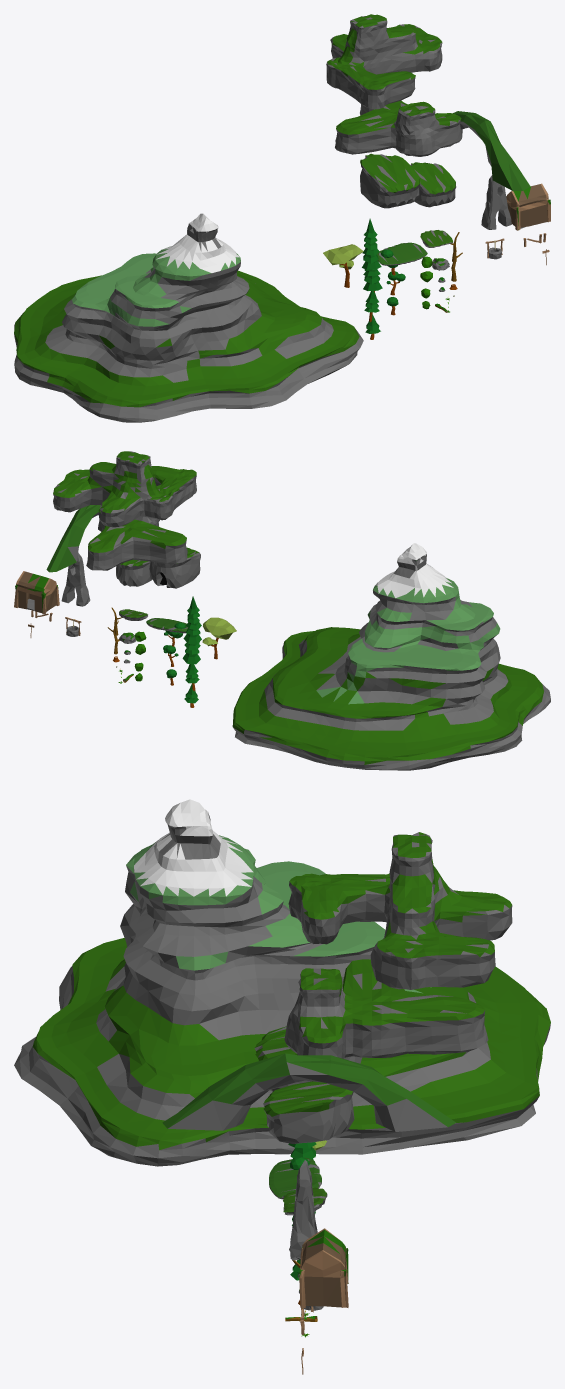
The model's file is Lowpoly Forest Pack v1.0.fbx.
3 renders of one model, top to bottom at view 1: azimuth 30°, elevation 25°; view 2: azimuth 150°, elevation 25°; view 3: azimuth 270°, elevation 25°, orthographic. The views are drawn at different scales.
Parts seen in each view (by area): view 1: Mountain, Summer Cliff 3, Summer Cliff 2, Summer Cave, Summer Arch, Building 1, Summer Cliff 1, Walk Through Rock, Summer Low Cliff 2, Cylinder.048, Summer Pine Tree 4; view 2: Mountain, Summer Cliff 3, Summer Cliff 2, Building 1, Summer Arch, Summer Cave, Walk Through Rock, Summer Cliff 1, Cylinder.048, Summer Pine Tree 4, Summer Low Cliff 2; view 3: Mountain, Summer Cliff 3, Summer Cliff 2, Summer Arch, Summer Cliff 1, Building 1, Walk Through Rock, Summer Low Cliff 2, Summer Cave.
Part boxes in pixels (bbox=[...]): Mountain: bbox=[14, 213, 363, 422]; Summer Cliff 3: bbox=[326, 14, 442, 109]; Summer Cliff 2: bbox=[335, 100, 462, 156]; Summer Cave: bbox=[360, 153, 420, 208]; Summer Arch: bbox=[453, 111, 530, 191]; Building 1: bbox=[506, 183, 550, 230]; Summer Cliff 1: bbox=[410, 162, 456, 207]; Walk Through Rock: bbox=[481, 175, 511, 229]; Summer Low Cliff 2: bbox=[377, 242, 427, 265]; Cylinder.048: bbox=[323, 244, 363, 287]; Summer Pine Tree 4: bbox=[362, 218, 381, 269]; Mountain: bbox=[232, 543, 550, 770]; Summer Cliff 3: bbox=[53, 451, 196, 527]; Summer Cliff 2: bbox=[86, 509, 187, 570]; Building 1: bbox=[14, 571, 59, 614]; Summer Arch: bbox=[46, 505, 100, 572]; Summer Cave: bbox=[149, 547, 200, 588]; Walk Through Rock: bbox=[61, 553, 90, 606]; Summer Cliff 1: bbox=[116, 559, 152, 586]; Cylinder.048: bbox=[202, 617, 236, 659]; Summer Pine Tree 4: bbox=[183, 596, 201, 644]; Summer Low Cliff 2: bbox=[146, 618, 187, 633]; Mountain: bbox=[14, 799, 550, 1166]; Summer Cliff 3: bbox=[288, 832, 512, 989]; Summer Cliff 2: bbox=[284, 959, 488, 1058]; Summer Arch: bbox=[162, 1053, 455, 1131]; Summer Cliff 1: bbox=[263, 1081, 354, 1143]; Building 1: bbox=[299, 1228, 348, 1308]; Walk Through Rock: bbox=[290, 1160, 317, 1260]; Summer Low Cliff 2: bbox=[269, 1157, 321, 1199]; Summer Cave: bbox=[254, 1026, 362, 1091].
Size of the model in its own units: 10299 by 5352 by 5561.
